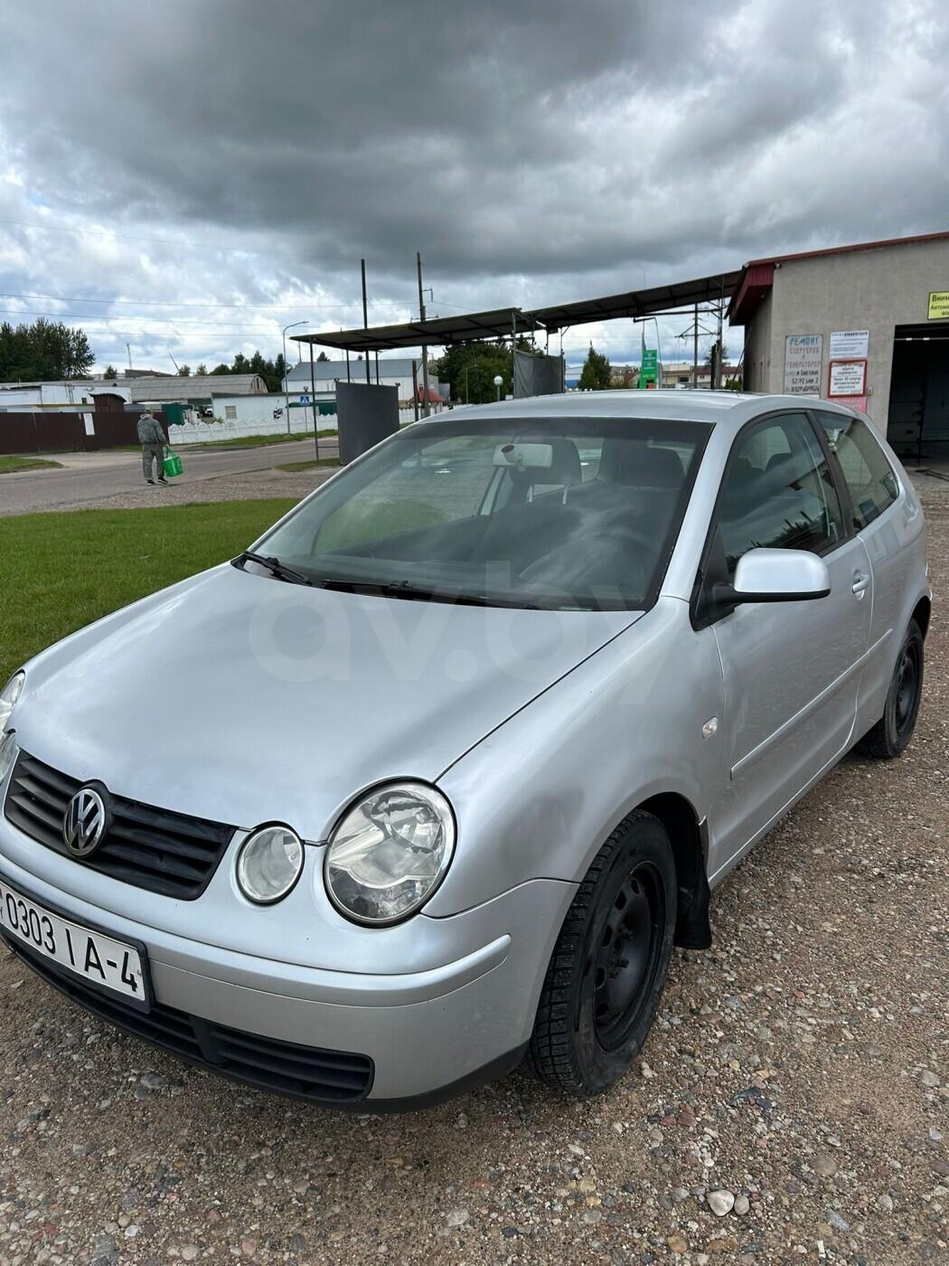Polo_2001-2005: (0, 378, 949, 1125)
